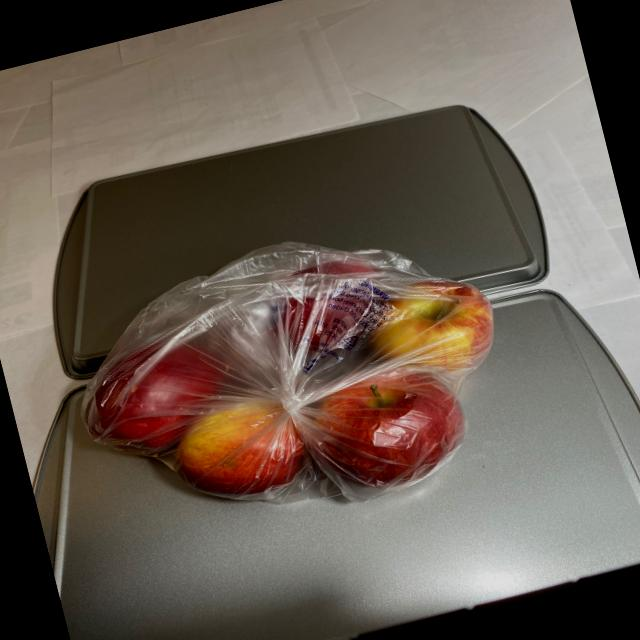apple: (61, 217, 530, 562)
